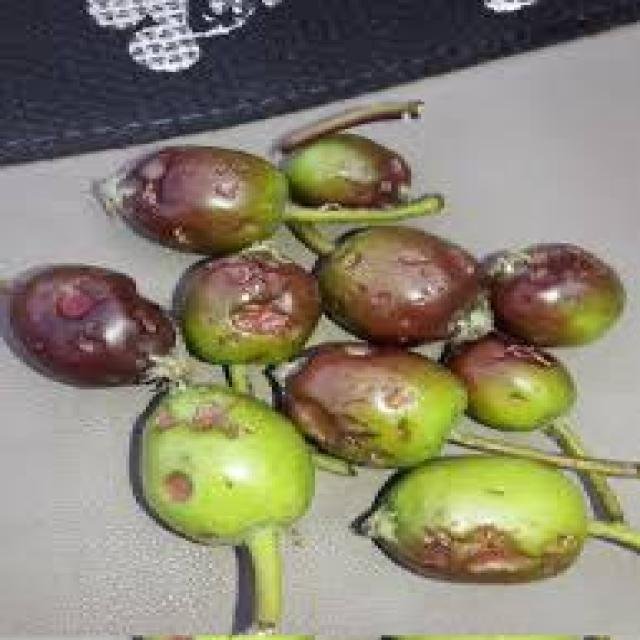Anthracnose: (128, 380, 312, 546), (358, 456, 590, 580), (282, 342, 464, 467), (96, 146, 288, 253), (0, 263, 172, 382), (318, 225, 474, 342), (172, 240, 315, 364), (481, 243, 610, 345), (444, 332, 567, 430), (285, 142, 408, 204)
